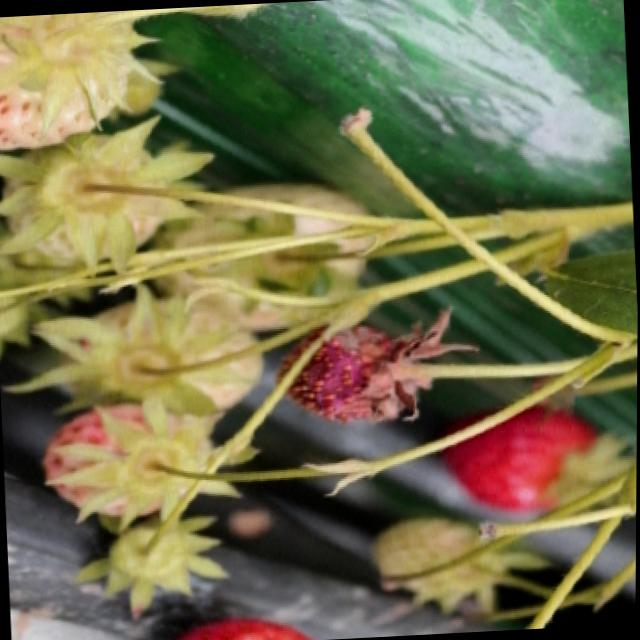Gray Mold: (272, 303, 484, 423)
